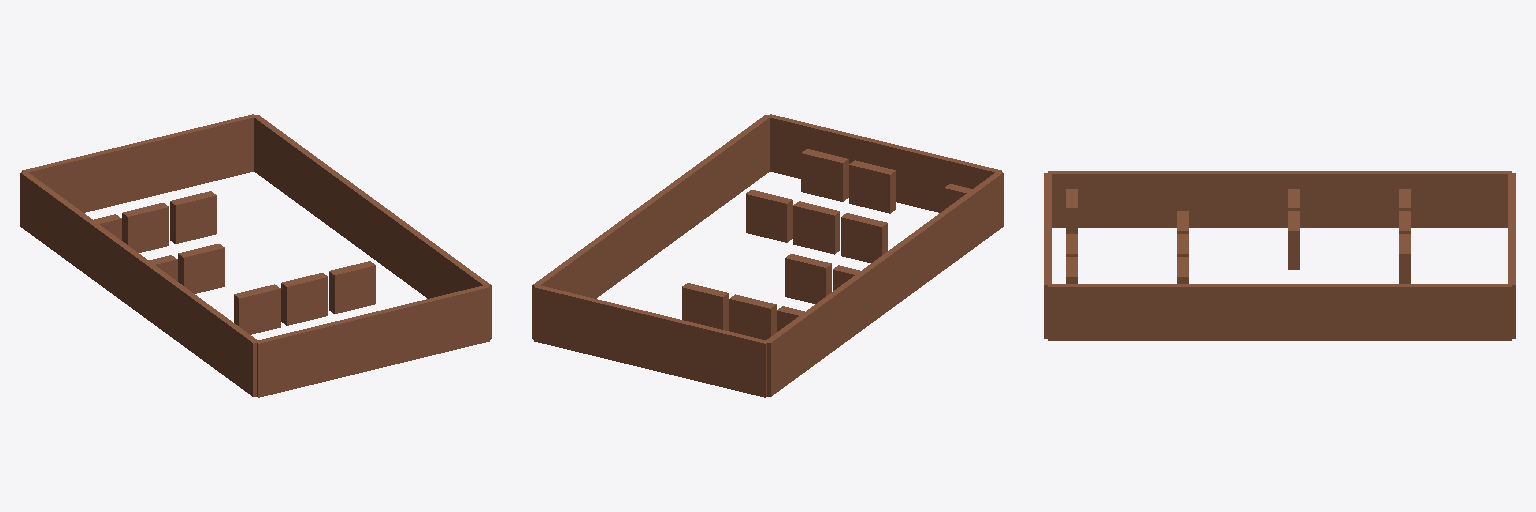
URDF robot description (supermarket):
<?xml version='1.0'?>
<robot name='supermarket'>

<link name="supermarket_base"/>


<link name="shelf_0_0">
  <visual>
    <geometry>
      <box size="2.0 0.5 1.8"/>
    </geometry>
    <material name="shelf_0_0_mat">
      <color rgba="0.6 0.4 0.3 1"/>
    </material>
  </visual>
  <collision>
    <geometry>
      <box size="2.0 0.5 1.8"/>
    </geometry>
  </collision>
</link>


<link name="shelf_0_2">
  <visual>
    <geometry>
      <box size="2.0 0.5 1.8"/>
    </geometry>
    <material name="shelf_0_2_mat">
      <color rgba="0.6 0.4 0.3 1"/>
    </material>
  </visual>
  <collision>
    <geometry>
      <box size="2.0 0.5 1.8"/>
    </geometry>
  </collision>
</link>


<link name="shelf_0_3">
  <visual>
    <geometry>
      <box size="2.0 0.5 1.8"/>
    </geometry>
    <material name="shelf_0_3_mat">
      <color rgba="0.6 0.4 0.3 1"/>
    </material>
  </visual>
  <collision>
    <geometry>
      <box size="2.0 0.5 1.8"/>
    </geometry>
  </collision>
</link>


<link name="shelf_1_1">
  <visual>
    <geometry>
      <box size="2.0 0.5 1.8"/>
    </geometry>
    <material name="shelf_1_1_mat">
      <color rgba="0.6 0.4 0.3 1"/>
    </material>
  </visual>
  <collision>
    <geometry>
      <box size="2.0 0.5 1.8"/>
    </geometry>
  </collision>
</link>


<link name="shelf_1_2">
  <visual>
    <geometry>
      <box size="2.0 0.5 1.8"/>
    </geometry>
    <material name="shelf_1_2_mat">
      <color rgba="0.6 0.4 0.3 1"/>
    </material>
  </visual>
  <collision>
    <geometry>
      <box size="2.0 0.5 1.8"/>
    </geometry>
  </collision>
</link>


<link name="shelf_1_3">
  <visual>
    <geometry>
      <box size="2.0 0.5 1.8"/>
    </geometry>
    <material name="shelf_1_3_mat">
      <color rgba="0.6 0.4 0.3 1"/>
    </material>
  </visual>
  <collision>
    <geometry>
      <box size="2.0 0.5 1.8"/>
    </geometry>
  </collision>
</link>


<link name="shelf_2_0">
  <visual>
    <geometry>
      <box size="2.0 0.5 1.8"/>
    </geometry>
    <material name="shelf_2_0_mat">
      <color rgba="0.6 0.4 0.3 1"/>
    </material>
  </visual>
  <collision>
    <geometry>
      <box size="2.0 0.5 1.8"/>
    </geometry>
  </collision>
</link>


<link name="shelf_2_1">
  <visual>
    <geometry>
      <box size="2.0 0.5 1.8"/>
    </geometry>
    <material name="shelf_2_1_mat">
      <color rgba="0.6 0.4 0.3 1"/>
    </material>
  </visual>
  <collision>
    <geometry>
      <box size="2.0 0.5 1.8"/>
    </geometry>
  </collision>
</link>


<!-- <link name="table_2_3">
    <contact>
      <lateral_friction value="1.0"/>
    </contact>
    <inertial>
      <origin rpy="0 0 0" xyz="-5 8 0"/>
       <mass value=".0"/>
       <inertia ixx="1" ixy="0" ixz="0" iyy="1" iyz="0" izz="1"/>
    </inertial>
    <visual>
      <origin rpy="0 0 0" xyz="-5 8 0.75"/>
      <geometry>
				<mesh filename="table.obj" scale="1.5 1 0.05"/>
      </geometry>
       <material name="white">
        <color rgba="1 1 1 1"/>
      </material>
    </visual>
    <collision>
      <origin rpy="0 0 0" xyz="-5 8 0.75"/>
      <geometry>
	 	<box size="1.5 1 0.05"/>
      </geometry>
    </collision>
	<visual>
      <origin rpy="0 0 0" xyz="-5.65 7.6 0.375"/>
      <geometry>
	    <mesh filename="table.obj" scale="0.1 0.1 0.75"/>
      </geometry>
	  <material name="framemat0"/>	 
    </visual>
    <visual>
      <origin rpy="0 0 0" xyz="-5.65 8.4 0.375"/>
      <geometry>
        <mesh filename="table.obj" scale="0.1 0.1 0.75"/>
      </geometry>
	  <material name="framemat0"/>
	  </visual>
    <visual>
      <origin rpy="0 0 0" xyz="-4.35 7.6 0.375"/>
      <geometry>
        <mesh filename="table.obj" scale="0.1 0.1 0.75"/>
      </geometry>
	  <material name="framemat0"/>
	  </visual>
    <visual>
      <origin rpy="0 0 0" xyz="-4.35 8.4 0.375"/>
      <geometry>
        <mesh filename="table.obj" scale="0.1 0.1 0.75"/>
      </geometry>
    </visual>
  </link> -->
                          

<link name="shelf_3_0">
  <visual>
    <geometry>
      <box size="2.0 0.5 1.8"/>
    </geometry>
    <material name="shelf_3_0_mat">
      <color rgba="0.6 0.4 0.3 1"/>
    </material>
  </visual>
  <collision>
    <geometry>
      <box size="2.0 0.5 1.8"/>
    </geometry>
  </collision>
</link>


<link name="shelf_3_1">
  <visual>
    <geometry>
      <box size="2.0 0.5 1.8"/>
    </geometry>
    <material name="shelf_3_1_mat">
      <color rgba="0.6 0.4 0.3 1"/>
    </material>
  </visual>
  <collision>
    <geometry>
      <box size="2.0 0.5 1.8"/>
    </geometry>
  </collision>
</link>


<link name="shelf_3_2">
  <visual>
    <geometry>
      <box size="2.0 0.5 1.8"/>
    </geometry>
    <material name="shelf_3_2_mat">
      <color rgba="0.6 0.4 0.3 1"/>
    </material>
  </visual>
  <collision>
    <geometry>
      <box size="2.0 0.5 1.8"/>
    </geometry>
  </collision>
</link>


<link name="wall_front">
  <visual>
    <geometry>
      <box size="11.2 0.3 2.5"/>
    </geometry>
    <material name="wall_front_mat">
      <color rgba="0.6 0.4 0.3 1"/>
    </material>
  </visual>
  <collision>
    <geometry>
      <box size="11.2 0.3 2.5"/>
    </geometry>
  </collision>
</link>


<link name="wall_back">
  <visual>
    <geometry>
      <box size="11.2 0.3 2.5"/>
    </geometry>
    <material name="wall_back_mat">
      <color rgba="0.6 0.4 0.3 1"/>
    </material>
  </visual>
  <collision>
    <geometry>
      <box size="11.2 0.3 2.5"/>
    </geometry>
  </collision>
</link>


<link name="wall_right">
  <visual>
    <geometry>
      <box size="0.3 19.5 2.5"/>
    </geometry>
    <material name="wall_right_mat">
      <color rgba="0.6 0.4 0.3 1"/>
    </material>
  </visual>
  <collision>
    <geometry>
      <box size="0.3 19.5 2.5"/>
    </geometry>
  </collision>
</link>


<link name="wall_left">
  <visual>
    <geometry>
      <box size="0.3 19.5 2.5"/>
    </geometry>
    <material name="wall_left_mat">
      <color rgba="0.6 0.4 0.3 1"/>
    </material>
  </visual>
  <collision>
    <geometry>
      <box size="0.3 19.5 2.5"/>
    </geometry>
  </collision>
</link>

<joint name="joint_shelf_0_0" type="fixed">
  <parent link="supermarket_base"/>
  <child link="shelf_0_0"/>
  <origin xyz="-4.6 -8.75 0.9" rpy="0 0 0"/>
</joint>


<joint name="joint_shelf_0_2" type="fixed">
  <parent link="supermarket_base"/>
  <child link="shelf_0_2"/>
  <origin xyz="0.0 -8.75 0.9" rpy="0 0 0"/>
</joint>


<joint name="joint_shelf_0_3" type="fixed">
  <parent link="supermarket_base"/>
  <child link="shelf_0_3"/>
  <origin xyz="2.3 -8.75 0.9" rpy="0 0 0"/>
</joint>


<joint name="joint_shelf_1_1" type="fixed">
  <parent link="supermarket_base"/>
  <child link="shelf_1_1"/>
  <origin xyz="-2.3 -4.083333333333333 0.9" rpy="0 0 0"/>
</joint>


<joint name="joint_shelf_1_2" type="fixed">
  <parent link="supermarket_base"/>
  <child link="shelf_1_2"/>
  <origin xyz="0.0 -4.083333333333333 0.9" rpy="0 0 0"/>
</joint>


<joint name="joint_shelf_1_3" type="fixed">
  <parent link="supermarket_base"/>
  <child link="shelf_1_3"/>
  <origin xyz="2.3 -4.083333333333333 0.9" rpy="0 0 0"/>
</joint>


<joint name="joint_shelf_2_0" type="fixed">
  <parent link="supermarket_base"/>
  <child link="shelf_2_0"/>
  <origin xyz="-4.6 0.5833333333333339 0.9" rpy="0 0 0"/>
</joint>


<joint name="joint_shelf_2_1" type="fixed">
  <parent link="supermarket_base"/>
  <child link="shelf_2_1"/>
  <origin xyz="-2.3 0.5833333333333339 0.9" rpy="0 0 0"/>
</joint>

<!-- 
<joint name="joint_table_2_3" type="fixed">
  <parent link="supermarket_base"/>
  <child link="table_2_3"/>
  <origin xyz="2.3 0.5833333333333339 0.0"
          rpy="0 0 0"/>
</joint> -->


<joint name="joint_shelf_3_0" type="fixed">
  <parent link="supermarket_base"/>
  <child link="shelf_3_0"/>
  <origin xyz="-4.6 5.25 0.9" rpy="0 0 0"/>
</joint>


<joint name="joint_shelf_3_1" type="fixed">
  <parent link="supermarket_base"/>
  <child link="shelf_3_1"/>
  <origin xyz="-2.3 5.25 0.9" rpy="0 0 0"/>
</joint>


<joint name="joint_shelf_3_2" type="fixed">
  <parent link="supermarket_base"/>
  <child link="shelf_3_2"/>
  <origin xyz="0.0 5.25 0.9" rpy="0 0 0"/>
</joint>


<joint name="joint_wall_front" type="fixed">
  <parent link="supermarket_base"/>
  <child link="wall_front"/>
  <origin xyz="0 9.75 1.25" rpy="0 0 0"/>
</joint>


<joint name="joint_wall_back" type="fixed">
  <parent link="supermarket_base"/>
  <child link="wall_back"/>
  <origin xyz="0 -9.75 1.25" rpy="0 0 0"/>
</joint>


<joint name="joint_wall_right" type="fixed">
  <parent link="supermarket_base"/>
  <child link="wall_right"/>
  <origin xyz="5.6 0 1.25" rpy="0 0 0"/>
</joint>


<joint name="joint_wall_left" type="fixed">
  <parent link="supermarket_base"/>
  <child link="wall_left"/>
  <origin xyz="-5.6 0 1.25" rpy="0 0 0"/>
</joint>

</robot>

--- What the picture shows (computed from the rendered views, not written in the file) ---
Views: 3 orthographic renders of the robot side by side, from view 1: azimuth 30°, elevation 25°; view 2: azimuth 150°, elevation 25°; view 3: azimuth 270°, elevation 25°.
Robot: supermarket — 16 links, 15 joints (15 fixed); root link supermarket_base; default pose: every joint at zero.
Visible links, largest first — view 1: wall_left, wall_back, wall_right, wall_front, shelf_1_2, shelf_1_3, shelf_3_2, shelf_1_1, shelf_2_1, shelf_3_1; view 2: wall_left, wall_front, wall_right, wall_back, shelf_0_3, shelf_0_2, shelf_1_3, shelf_1_2, shelf_2_1, shelf_1_1, shelf_3_2, shelf_3_1; view 3: wall_right, wall_left, wall_back, wall_front, shelf_2_1, shelf_3_2, shelf_0_0.
Boxes of the visible links, x1,y1,x2,y2 form: wall_left: (20,172,257,396); wall_back: (255,285,489,397); wall_right: (254,115,491,339); wall_front: (22,114,255,212); shelf_1_2: (281,273,327,325); shelf_1_3: (329,261,375,313); shelf_3_2: (170,191,216,243); shelf_1_1: (234,284,280,334); shelf_2_1: (178,244,224,293); shelf_3_1: (122,203,168,252); wall_left: (765,171,1003,396); wall_front: (534,285,767,397); wall_right: (532,115,770,339); wall_back: (768,114,1001,212); shelf_0_3: (801,149,848,201); shelf_0_2: (849,160,895,213); shelf_1_3: (746,190,792,242); shelf_1_2: (793,201,839,254); shelf_2_1: (785,254,831,303); shelf_1_1: (841,213,887,262); shelf_3_2: (682,283,728,330); shelf_3_1: (729,294,776,339); wall_right: (1048,284,1511,340); wall_left: (1048,171,1511,227); wall_back: (1044,173,1051,338); wall_front: (1508,173,1515,338); shelf_2_1: (1288,211,1299,269); shelf_3_2: (1399,234,1410,283); shelf_0_0: (1066,189,1077,233).
Bounding box of the posed robot: 11.5 × 19.8 × 2.5 m (x, y, z).
Geometry: primitives only (box / cylinder / sphere), no mesh files.
